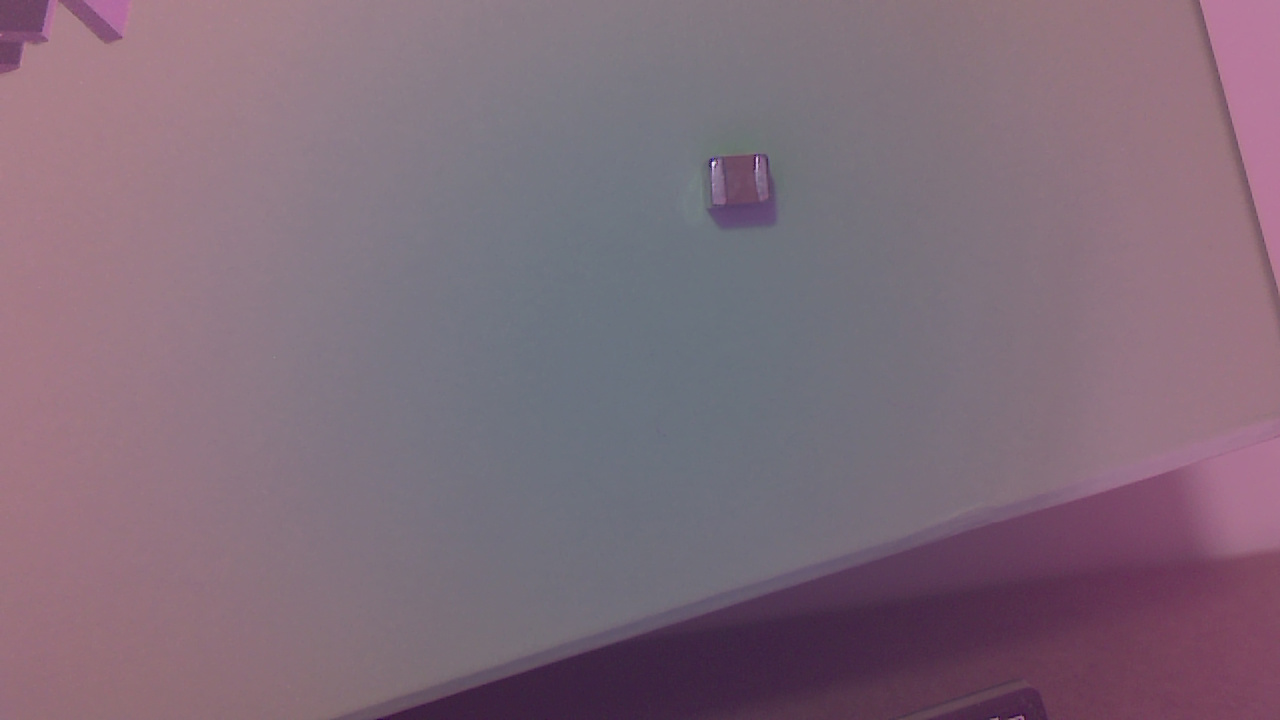Diode: (711, 157, 778, 219)
